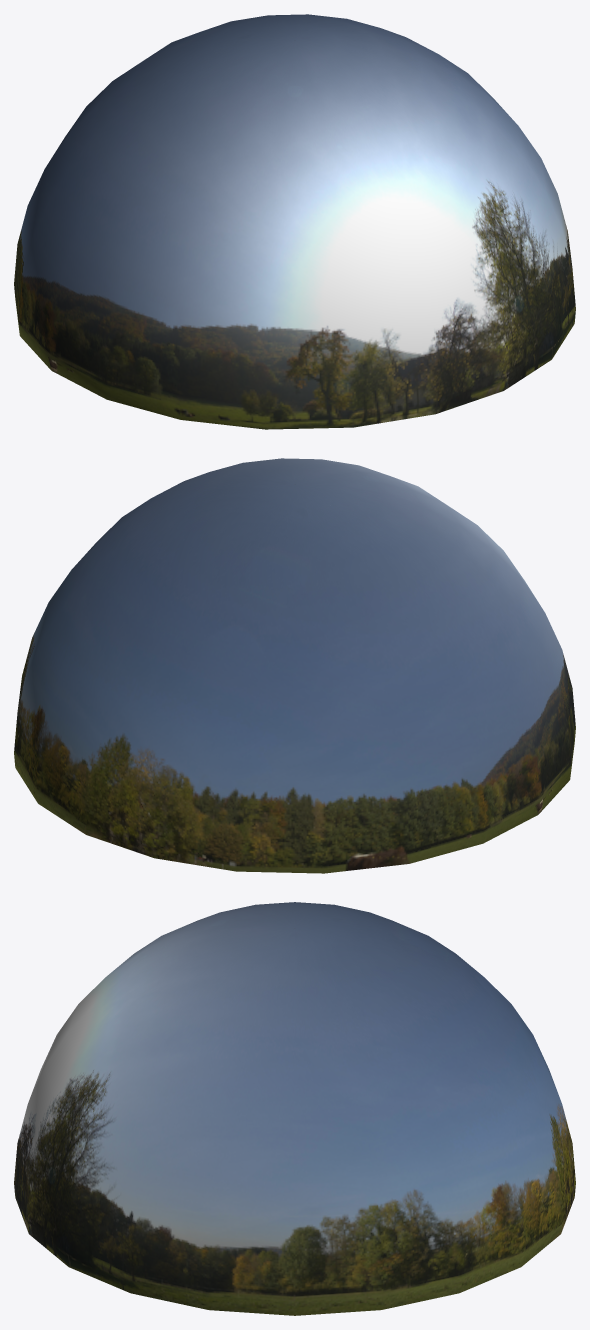
Rendered from env.fbx.
The picture shows the model from 3 angles, top to bottom: view 1: azimuth 30°, elevation 25°; view 2: azimuth 150°, elevation 25°; view 3: azimuth 270°, elevation 25°; orthographic projection.
Parts seen in each view (by area): view 1: pSphere1; view 2: pSphere1; view 3: pSphere1.
Boxes of the visible parts, x1,y1,x2,y2 form: pSphere1: (14,14,575,429); pSphere1: (14,458,575,873); pSphere1: (14,902,575,1315).
Bounding box in the file's own units: 1000 × 529 × 1000.
1 material, 1 textured.
